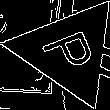P_NE: (36, 24, 101, 78)
